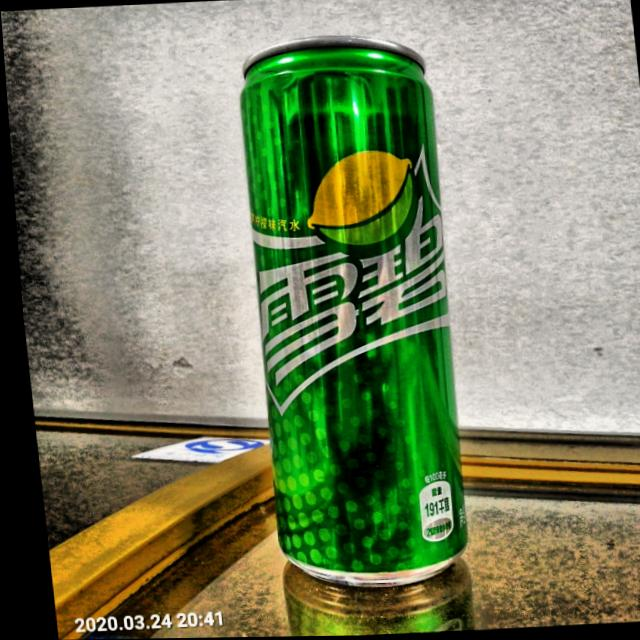Cans: (196, 21, 495, 612)
